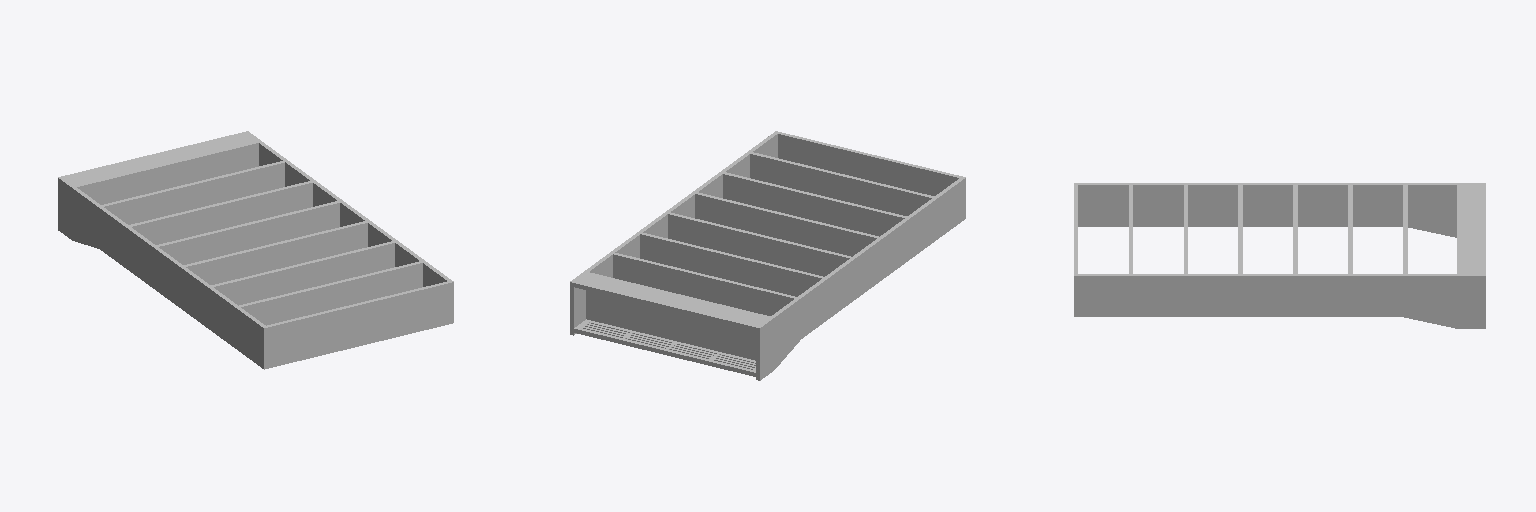
File: TallShelfV10-TechViewV5-Compound.obj
The picture shows the model from 3 angles: view 1: azimuth 30°, elevation 25°; view 2: azimuth 150°, elevation 25°; view 3: azimuth 270°, elevation 25°; orthographic projection.
Visible parts, largest first — view 1: Compound; view 2: Compound; view 3: Compound.
Part boxes in pixels (left/top/right/bottom): Compound: left=58, top=131, right=453, bottom=369; Compound: left=570, top=131, right=965, bottom=380; Compound: left=1074, top=183, right=1485, bottom=328.
Size of the model in its own units: 889 by 235 by 1670.